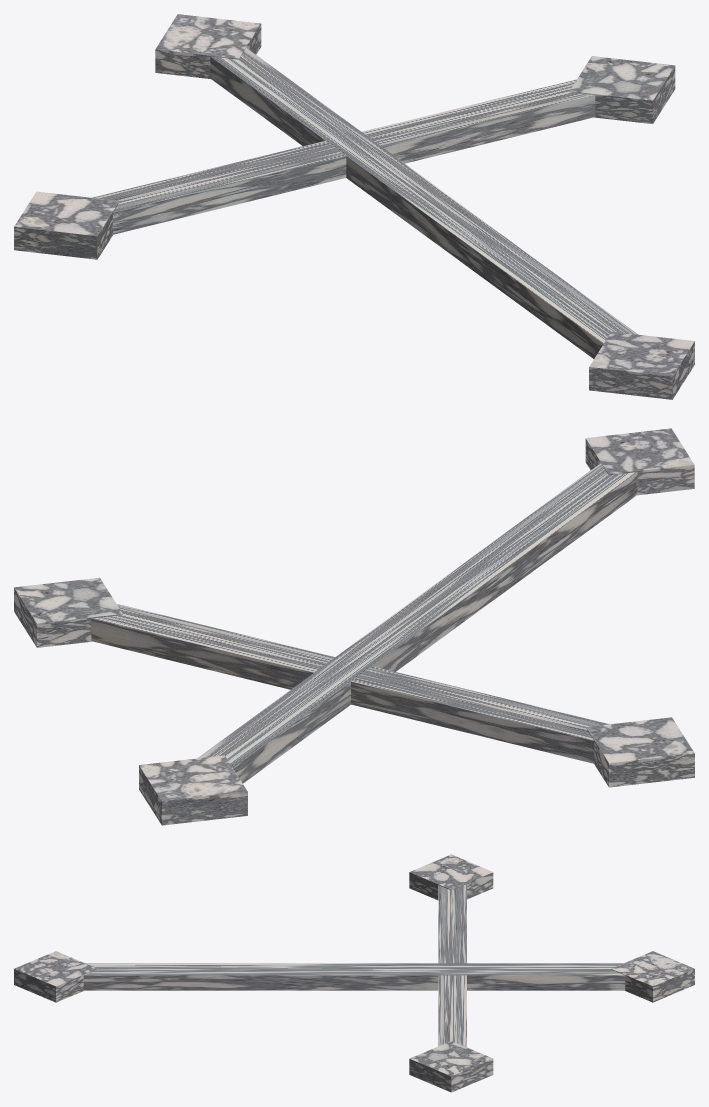
Rendered from Cross.fbx.
3 views of the same model, one above another, from view 1: azimuth 30°, elevation 25°; view 2: azimuth 150°, elevation 25°; view 3: azimuth 270°, elevation 25° (orthographic). The views are drawn at different scales.
Parts seen in each view (by area): view 1: pCube4; view 2: pCube4; view 3: pCube4.
Part boxes in pixels (<box>): pCube4: <box>14,14,694,399</box>; pCube4: <box>14,428,694,825</box>; pCube4: <box>14,854,694,1092</box>.
Size of the model in its own units: 4.11 by 0.1396 by 5.33.
1 material, 1 textured.
